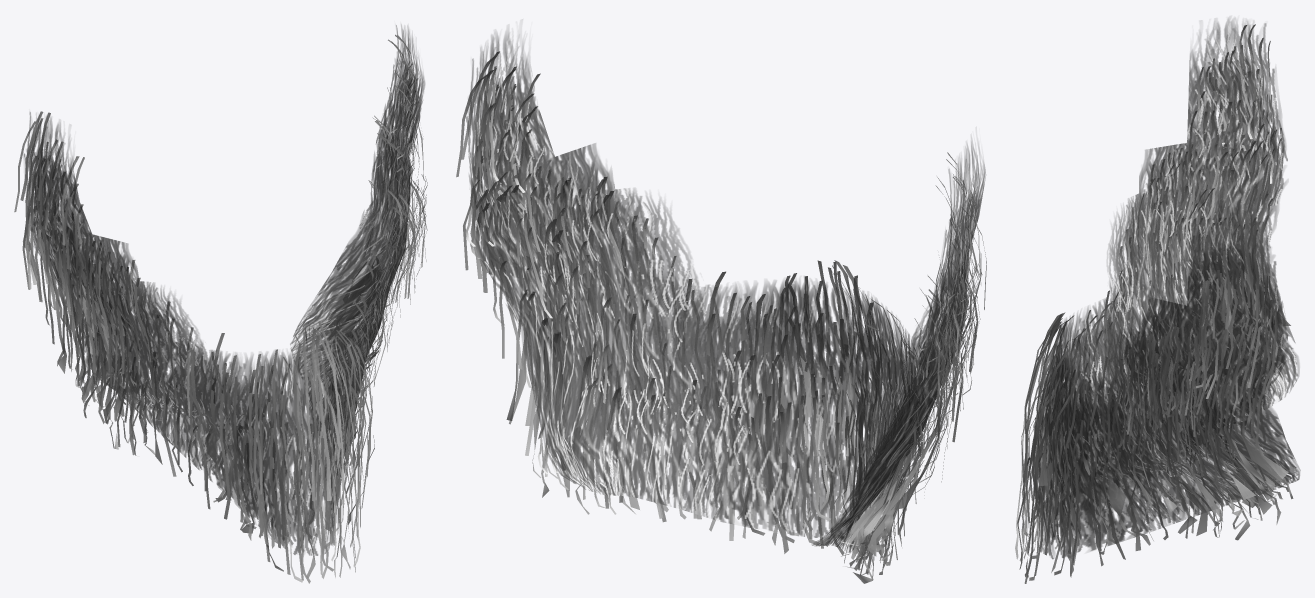
File: facial_beard_long.gltf
The picture shows the model from 3 angles, left to right: view 1: azimuth 30°, elevation 25°; view 2: azimuth 150°, elevation 25°; view 3: azimuth 270°, elevation 25°; orthographic projection. The views are drawn at different scales.
Parts seen in each view (by area): view 1: facial_beard_long; view 2: facial_beard_long; view 3: facial_beard_long.
Boxes of the visible parts, x1,y1,x2,y2 form: facial_beard_long: [14, 24, 427, 583]; facial_beard_long: [456, 29, 986, 583]; facial_beard_long: [1015, 17, 1300, 583].
Size of the model in its own units: 0.1364 by 0.1451 by 0.0811.
1 material, 1 textured.
